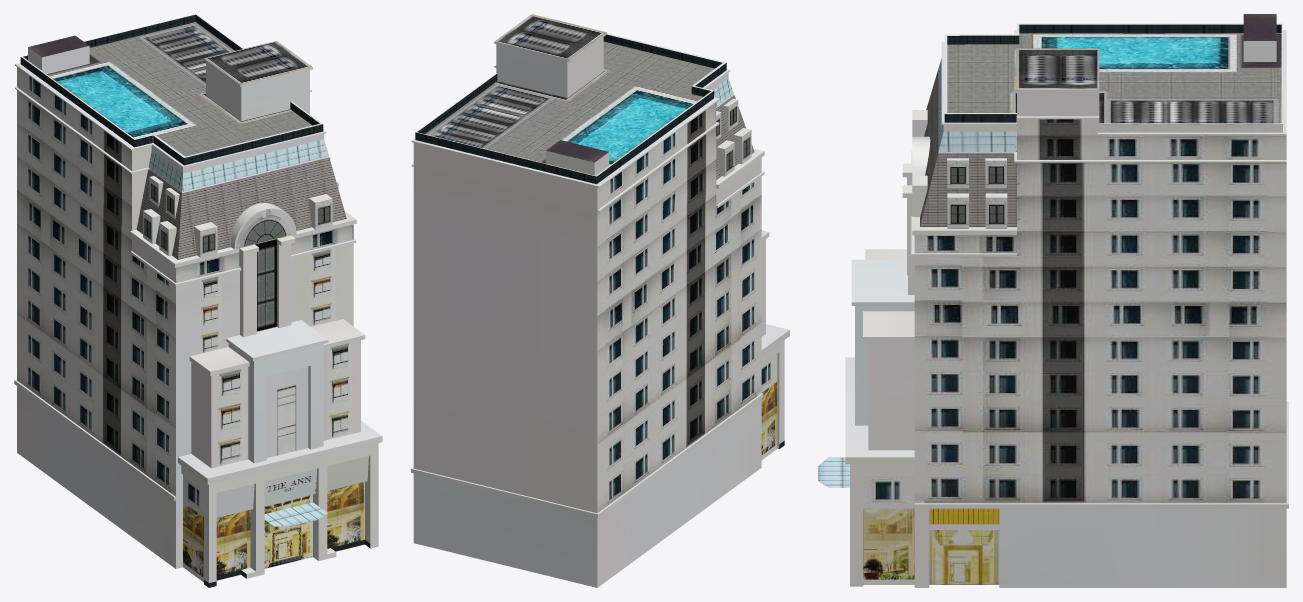
3 renders of one model, left to right at view 1: azimuth 30°, elevation 25°; view 2: azimuth 150°, elevation 25°; view 3: azimuth 270°, elevation 25°, orthographic. The views are drawn at different scales.
Visible parts, largest first — view 1: HN100___The_Ann_Hanoi; view 2: HN100___The_Ann_Hanoi; view 3: HN100___The_Ann_Hanoi.
Boxes of the visible parts, x1,y1,x2,y2 form: HN100___The_Ann_Hanoi: [14, 14, 382, 587]; HN100___The_Ann_Hanoi: [411, 14, 789, 587]; HN100___The_Ann_Hanoi: [818, 14, 1288, 587].
Size of the model in its own units: 18.21 by 40.82 by 34.89.
Materials: 1 (1 with a texture image).
